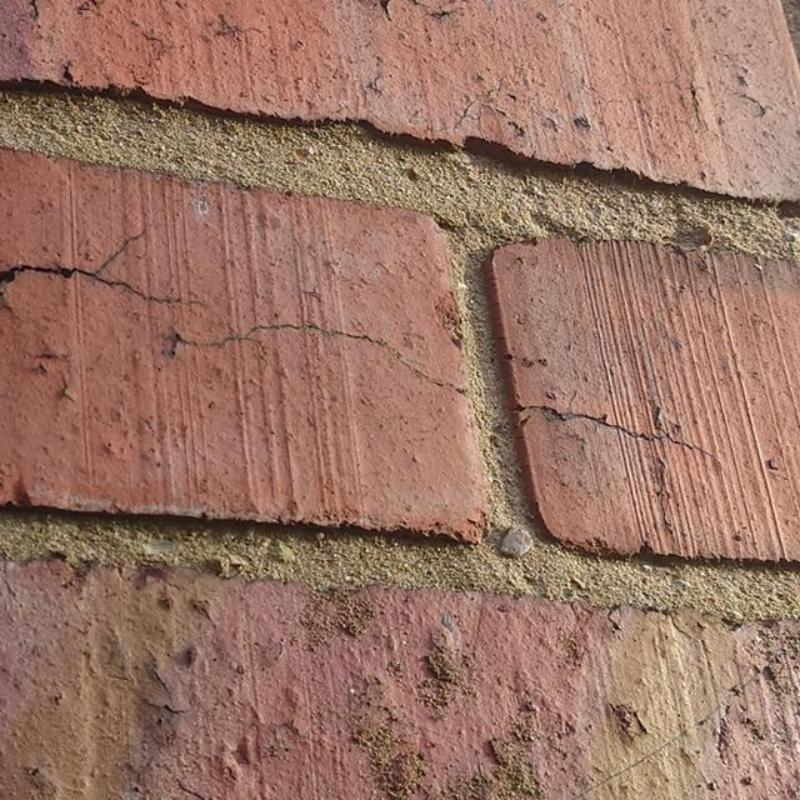pothole: (168, 323, 466, 395), (512, 389, 725, 466), (1, 227, 208, 306)
